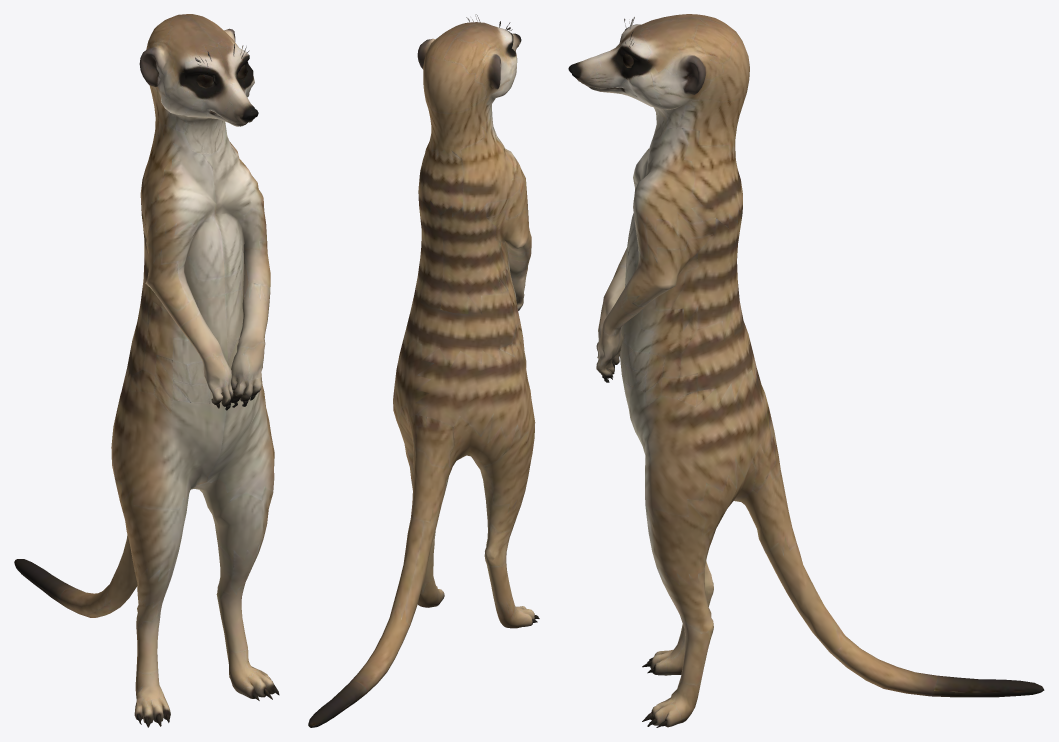
The model's file is meerkat-tora-stand.glb.
The picture shows the model from 3 angles, left to right: view 1: azimuth 30°, elevation 25°; view 2: azimuth 150°, elevation 25°; view 3: azimuth 270°, elevation 25°; orthographic projection. The views are drawn at different scales.
Visible parts, largest first — view 1: geometry_0; view 2: geometry_0; view 3: geometry_0.
Boxes of the visible parts, bbox=[...] form: geometry_0: bbox=[14, 14, 279, 727]; geometry_0: bbox=[308, 14, 539, 727]; geometry_0: bbox=[568, 14, 1044, 727].
Bounding box in the file's own units: 0.2159 × 0.9512 × 0.6055.
1 material, 1 textured.
